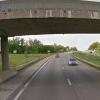Bridge: (4, 5, 98, 46)
